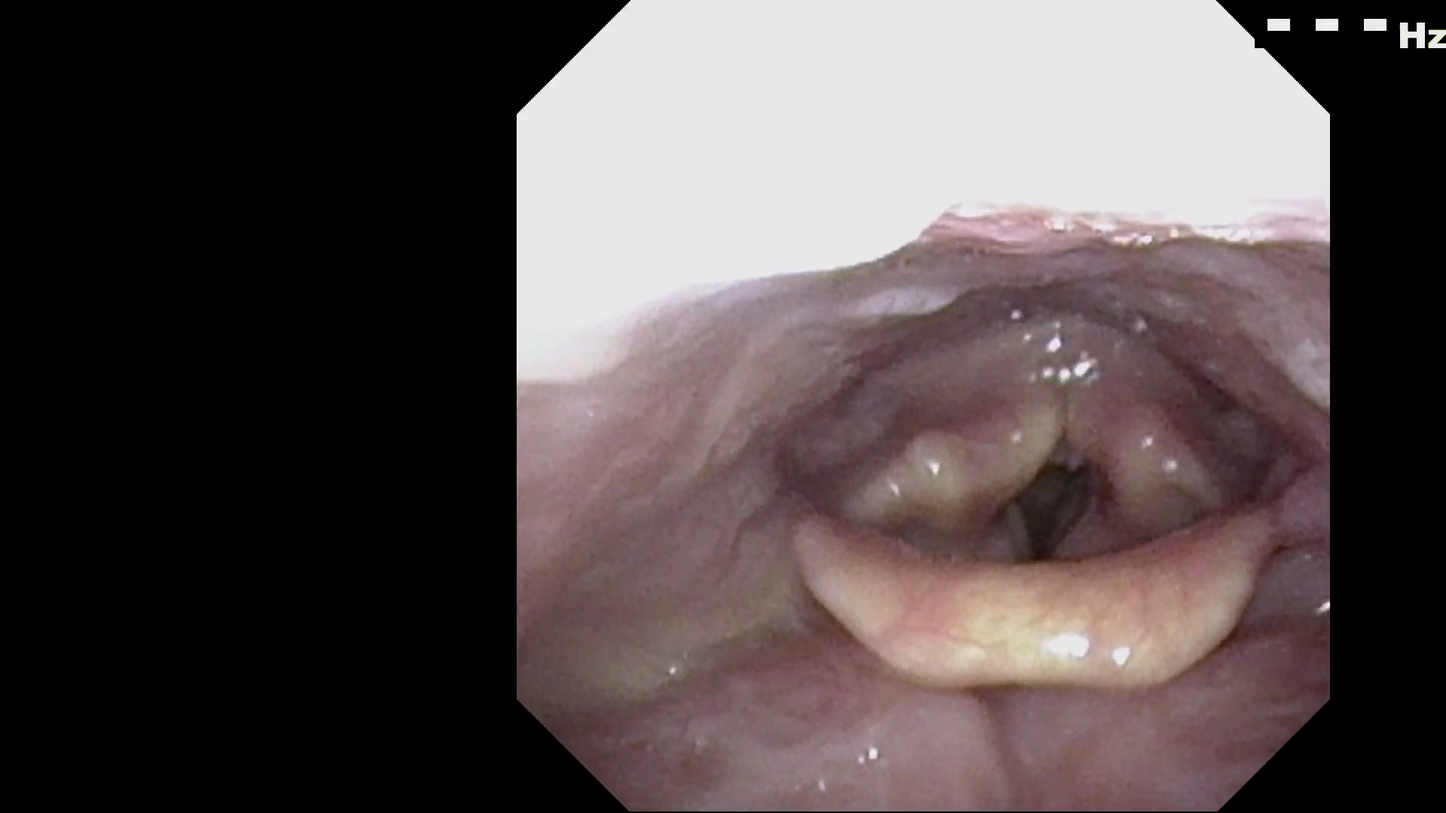epiglottis: (780, 467, 1305, 706)
trachea: (976, 406, 1123, 561)
